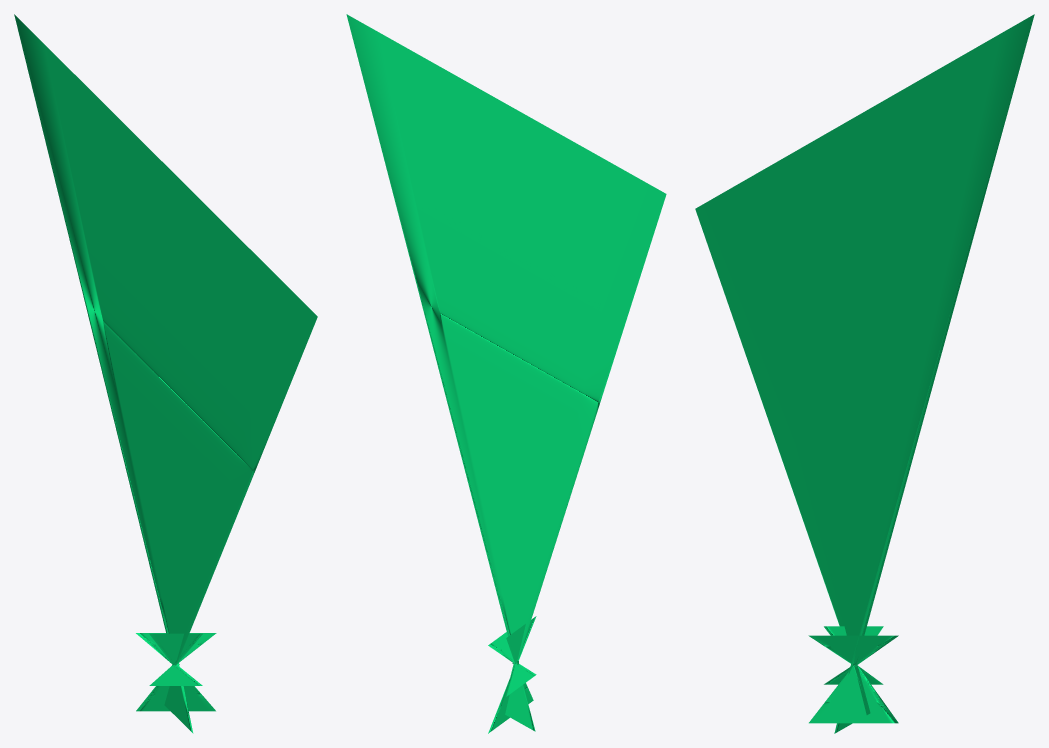
The model's file is n_cube_6d_ar_universal.glb.
3 views of the same model, side by side, from view 1: azimuth 90°, elevation 25°; view 2: azimuth 150°, elevation 25°; view 3: azimuth 270°, elevation 25° (orthographic). The views are drawn at different scales.
Visible parts, largest first — view 1: n_cube_6d_ar; view 2: n_cube_6d_ar; view 3: n_cube_6d_ar.
Boxes of the visible parts, x1=… form: n_cube_6d_ar: x1=14, y1=14, x2=317, y2=733; n_cube_6d_ar: x1=346, y1=14, x2=666, y2=733; n_cube_6d_ar: x1=695, y1=14, x2=1034, y2=733.
Size of the model in its own units: 0.2019 by 1 by 0.4037.
